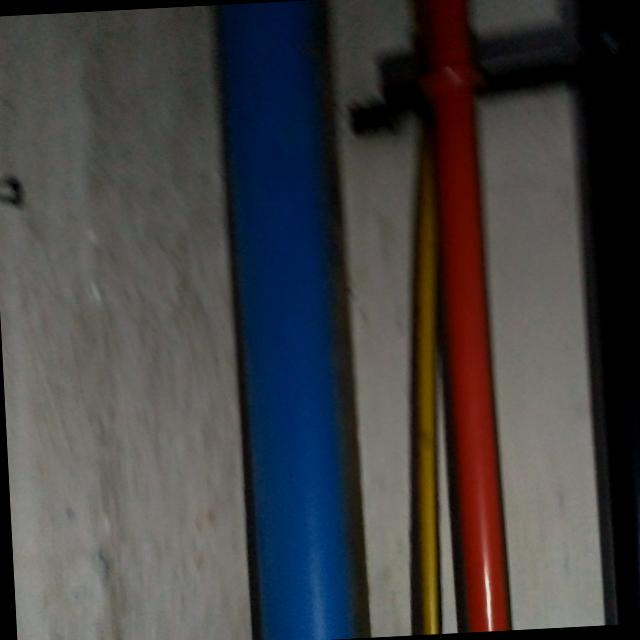gas: (220, 0, 370, 640), (421, 0, 510, 633), (580, 0, 640, 625)
